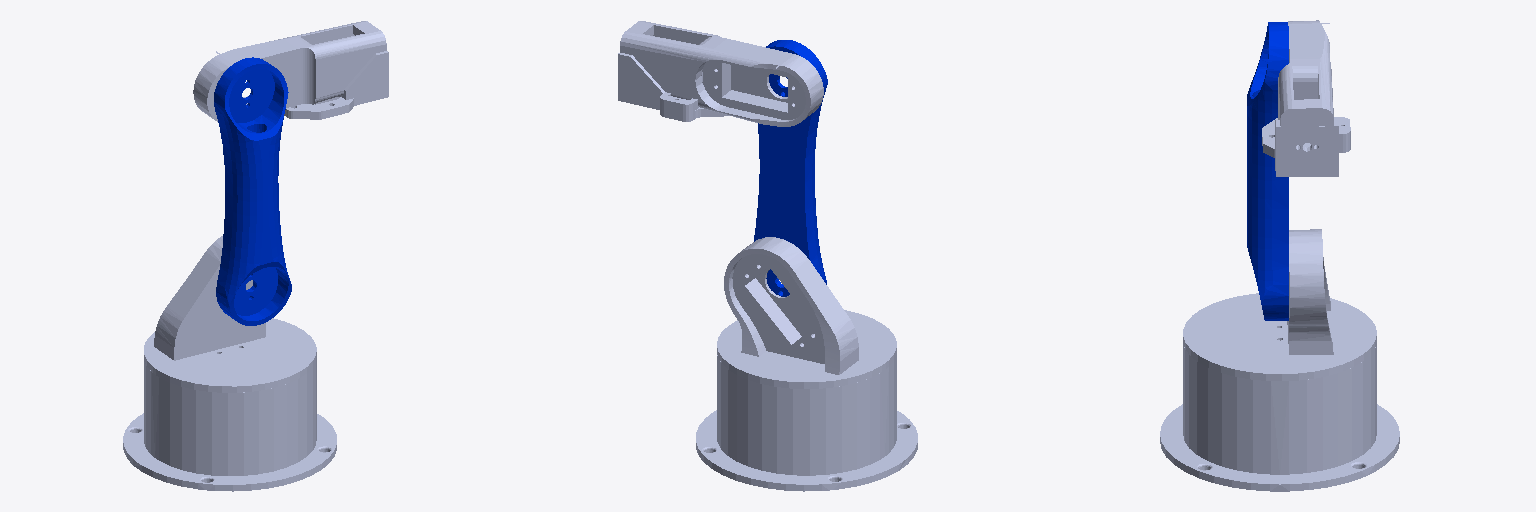
URDF robot description (BrazoparaURDF):
<?xml version="1.0" encoding="utf-8"?>
<!-- This URDF was automatically created by SolidWorks to URDF Exporter! Originally created by [author] ([email redacted]) 
     Commit Version: 1.6.0-4-g7f85cfe  Build Version: 1.6.7995.38578
     For more information, please see http://wiki.ros.org/sw_urdf_exporter -->
<robot
  name="BrazoparaURDF">
  <link
    name="base_link">
    <inertial>
      <origin
        xyz="0.0026513 0.021626 -5.607E-05"
        rpy="0 0 0" />
      <mass
        value="0.1036" />
      <inertia
        ixx="0.00012888"
        ixy="-1.0446E-06"
        ixz="1.5043E-07"
        iyy="0.00021815"
        iyz="2.4556E-09"
        izz="0.00014888" />
    </inertial>
    <visual>
      <origin
        xyz="0 0 0"
        rpy="0 0 0" />
      <geometry>
        <mesh
          filename="package://BrazoparaURDF/meshes/base_link.STL" />
      </geometry>
      <material
        name="">
        <color
          rgba="0.79216 0.81961 0.93333 1" />
      </material>
    </visual>
    <collision>
      <origin
        xyz="0 0 0"
        rpy="0 0 0" />
      <geometry>
        <mesh
          filename="package://BrazoparaURDF/meshes/base_link.STL" />
      </geometry>
    </collision>
  </link>
  <link
    name="Base_2_link">
    <inertial>
      <origin
        xyz="-0.0066409 0.017974 -0.002134"
        rpy="0 0 0" />
      <mass
        value="0.068942" />
      <inertia
        ixx="6.1349E-05"
        ixy="5.385E-06"
        ixz="-5.3212E-07"
        iyy="5.6429E-05"
        iyz="7.2049E-06"
        izz="4.7758E-05" />
    </inertial>
    <visual>
      <origin
        xyz="0 0 0"
        rpy="0 0 0" />
      <geometry>
        <mesh
          filename="package://BrazoparaURDF/meshes/Base_2_link.STL" />
      </geometry>
      <material
        name="">
        <color
          rgba="0.79216 0.81961 0.93333 1" />
      </material>
    </visual>
    <collision>
      <origin
        xyz="0 0 0"
        rpy="0 0 0" />
      <geometry>
        <mesh
          filename="package://BrazoparaURDF/meshes/Base_2_link.STL" />
      </geometry>
    </collision>
  </link>
  <joint
    name="Base_2_joint"
    type="revolute">
    <origin
      xyz="0 0 0.056"
      rpy="1.5708 0 -1.5485" />
    <parent
      link="base_link" />
    <child
      link="Base_2_link" />
    <axis
      xyz="0 1 0" />
    <limit
      lower="0"
      upper="0"
      effort="0"
      velocity="0" />
  </joint>
  <link
    name="Eslabon_1_link">
    <inertial>
      <origin
        xyz="6.31E-07 0.057345 0.003764"
        rpy="0 0 0" />
      <mass
        value="0.055061" />
      <inertia
        ixx="8.4974E-05"
        ixy="-4.9166E-10"
        ixz="-7.0163E-11"
        iyy="7.7321E-06"
        iyz="-1.4678E-07"
        izz="8.8974E-05" />
    </inertial>
    <visual>
      <origin
        xyz="0 0 0"
        rpy="0 0 0" />
      <geometry>
        <mesh
          filename="package://BrazoparaURDF/meshes/Eslabon_1_link.STL" />
      </geometry>
      <material
        name="">
        <color
          rgba="0 0.2549 0.92157 1" />
      </material>
    </visual>
    <collision>
      <origin
        xyz="0 0 0"
        rpy="0 0 0" />
      <geometry>
        <mesh
          filename="package://BrazoparaURDF/meshes/Eslabon_1_link.STL" />
      </geometry>
    </collision>
  </link>
  <joint
    name="Eslabon_1_joint"
    type="revolute">
    <origin
      xyz="0 0.040276 -0.013918"
      rpy="1.5708 1.5586 1.5708" />
    <parent
      link="Base_2_link" />
    <child
      link="Eslabon_1_link" />
    <axis
      xyz="0 0 1" />
    <limit
      lower="0"
      upper="0"
      effort="0"
      velocity="0" />
  </joint>
  <link
    name="Eslabon_2_link">
    <inertial>
      <origin
        xyz="4.7632E-05 0.039279 0.01141"
        rpy="0 0 0" />
      <mass
        value="0.050182" />
      <inertia
        ixx="5.4948E-05"
        ixy="-6.1748E-08"
        ixz="-2.9949E-10"
        iyy="8.944E-06"
        iyz="-2.5004E-07"
        izz="5.8237E-05" />
    </inertial>
    <visual>
      <origin
        xyz="0 0 0"
        rpy="0 0 0" />
      <geometry>
        <mesh
          filename="package://BrazoparaURDF/meshes/Eslabon_2_link.STL" />
      </geometry>
      <material
        name="">
        <color
          rgba="0.79216 0.81961 0.93333 1" />
      </material>
    </visual>
    <collision>
      <origin
        xyz="0 0 0"
        rpy="0 0 0" />
      <geometry>
        <mesh
          filename="package://BrazoparaURDF/meshes/Eslabon_2_link.STL" />
      </geometry>
    </collision>
  </link>
  <joint
    name="Eslabon_2_joint"
    type="revolute">
    <origin
      xyz="0 0.12 0"
      rpy="-3.1416 0 1.5578" />
    <parent
      link="Eslabon_1_link" />
    <child
      link="Eslabon_2_link" />
    <axis
      xyz="0 0 1" />
    <limit
      lower="0"
      upper="0"
      effort="0"
      velocity="0" />
  </joint>
  <link
    name="Eslabon_3_link">
    <inertial>
      <origin
        xyz="-9.7623E-05 0.0086149 0.021886"
        rpy="0 0 0" />
      <mass
        value="0.020316" />
      <inertia
        ixx="7.2365E-06"
        ixy="6.558E-08"
        ixz="1.327E-07"
        iyy="8.6164E-06"
        iyz="-1.3265E-06"
        izz="3.488E-06" />
    </inertial>
    <visual>
      <origin
        xyz="0 0 0"
        rpy="0 0 0" />
      <geometry>
        <mesh
          filename="package://BrazoparaURDF/meshes/Eslabon_3_link.STL" />
      </geometry>
      <material
        name="">
        <color
          rgba="0.79216 0.81961 0.93333 1" />
      </material>
    </visual>
    <collision>
      <origin
        xyz="0 0 0"
        rpy="0 0 0" />
      <geometry>
        <mesh
          filename="package://BrazoparaURDF/meshes/Eslabon_3_link.STL" />
      </geometry>
    </collision>
  </link>
  <joint
    name="Eslabon_3_joint"
    type="revolute">
    <origin
      xyz="-0.0050995 0.089782 0.0115"
      rpy="1.5708 -1.5708 0" />
    <parent
      link="Eslabon_2_link" />
    <child
      link="Eslabon_3_link" />
    <axis
      xyz="0 0 1" />
    <limit
      lower="0"
      upper="0"
      effort="0"
      velocity="0" />
  </joint>
</robot>

--- Facts derived from the render (not from the file) ---
The picture shows the robot from 3 angles, left to right: view 1: azimuth 30°, elevation 25°; view 2: azimuth 150°, elevation 25°; view 3: azimuth 270°, elevation 25°; orthographic projection.
Model BrazoparaURDF with 5 links and 4 joints (4 revolute), rooted at base_link, posed all joints at 0.
Links seen in each view (by area): view 1: base_link, Eslabon_1_link, Base_2_link, Eslabon_2_link, Eslabon_3_link; view 2: base_link, Base_2_link, Eslabon_2_link, Eslabon_1_link, Eslabon_3_link; view 3: base_link, Base_2_link, Eslabon_1_link, Eslabon_2_link, Eslabon_3_link.
Link boxes in pixels (x1=…): base_link: x1=123, y1=358, x2=336, y2=491; Eslabon_1_link: x1=214, y1=57, x2=291, y2=325; Base_2_link: x1=144, y1=236, x2=316, y2=392; Eslabon_2_link: x1=193, y1=21, x2=386, y2=121; Eslabon_3_link: x1=284, y1=51, x2=388, y2=119; base_link: x1=696, y1=355, x2=917, y2=491; Base_2_link: x1=717, y1=237, x2=896, y2=388; Eslabon_2_link: x1=620, y1=21, x2=823, y2=126; Eslabon_1_link: x1=754, y1=40, x2=827, y2=296; Eslabon_3_link: x1=618, y1=53, x2=728, y2=121; base_link: x1=1160, y1=343, x2=1399, y2=491; Base_2_link: x1=1183, y1=229, x2=1376, y2=380; Eslabon_1_link: x1=1247, y1=22, x2=1288, y2=320; Eslabon_2_link: x1=1278, y1=20, x2=1333, y2=126; Eslabon_3_link: x1=1262, y1=117, x2=1350, y2=176.
Size in the robot's own frame: 0.163 by 0.1213 by 0.2373 metres.
5 mesh visuals loaded from 5 distinct referenced files (5 binary STL).